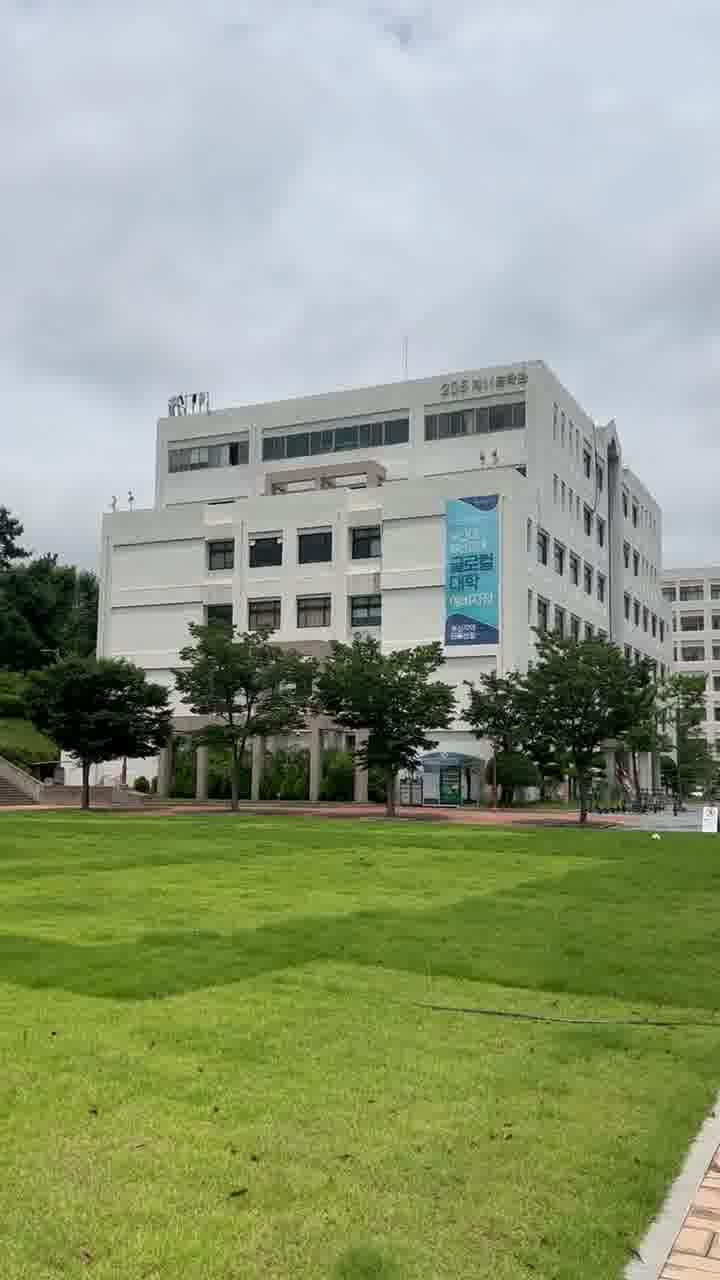building: (110, 362, 674, 634)
